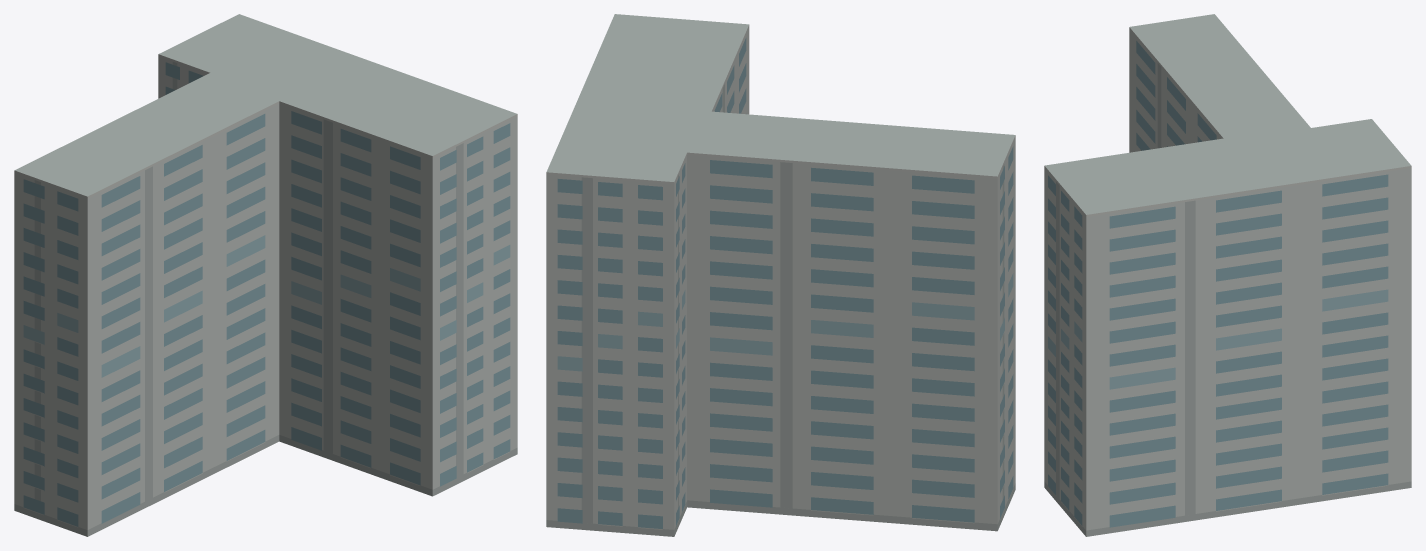
File: residential-c5f845eb-d29d-41ef-a77d-fc5a16c5cf70.glb
3 renders of one model, left to right at view 1: azimuth 30°, elevation 25°; view 2: azimuth 150°, elevation 25°; view 3: azimuth 270°, elevation 25°, orthographic. The views are drawn at different scales.
Visible parts, largest first — view 1: residential-c5f845eb-d29d-41ef-a77d-fc5a16c5cf70.tmp; view 2: residential-c5f845eb-d29d-41ef-a77d-fc5a16c5cf70.tmp; view 3: residential-c5f845eb-d29d-41ef-a77d-fc5a16c5cf70.tmp.
Boxes of the visible parts, bbox=[...] form: residential-c5f845eb-d29d-41ef-a77d-fc5a16c5cf70.tmp: bbox=[14, 14, 517, 536]; residential-c5f845eb-d29d-41ef-a77d-fc5a16c5cf70.tmp: bbox=[546, 14, 1015, 536]; residential-c5f845eb-d29d-41ef-a77d-fc5a16c5cf70.tmp: bbox=[1044, 14, 1411, 536].
Size of the model in its own units: 49.53 by 37 by 38.25.
